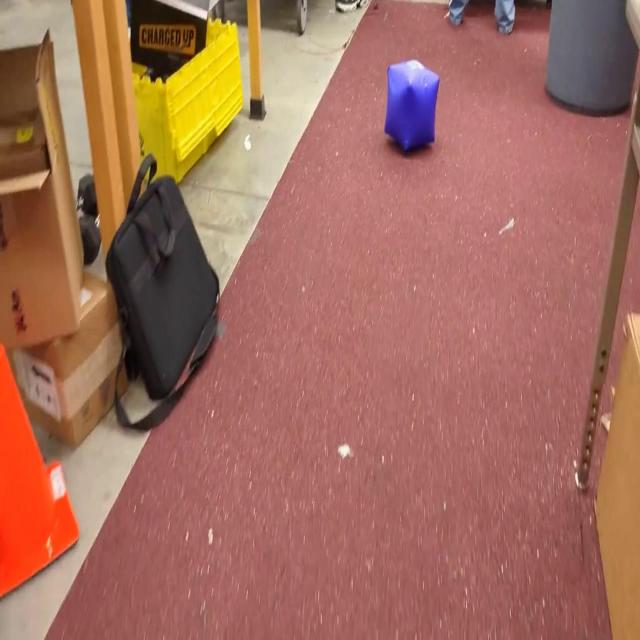frc_cube: (384, 58, 442, 157)
